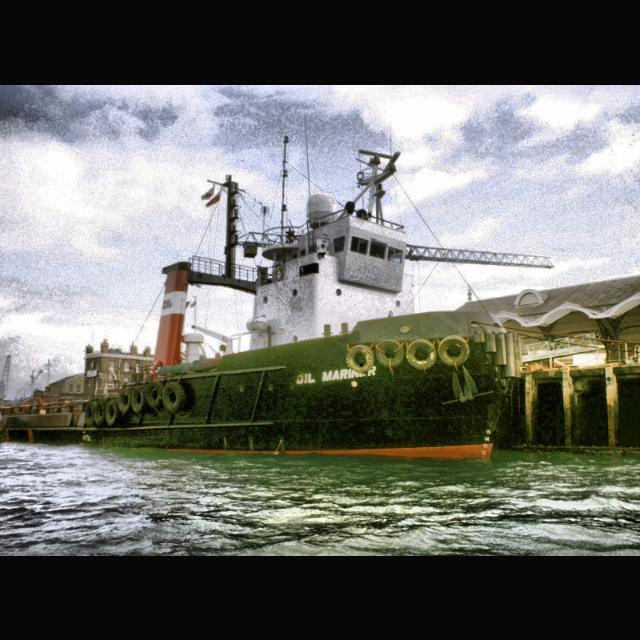anchor_handling_tug_supply: (85, 188, 518, 464)
